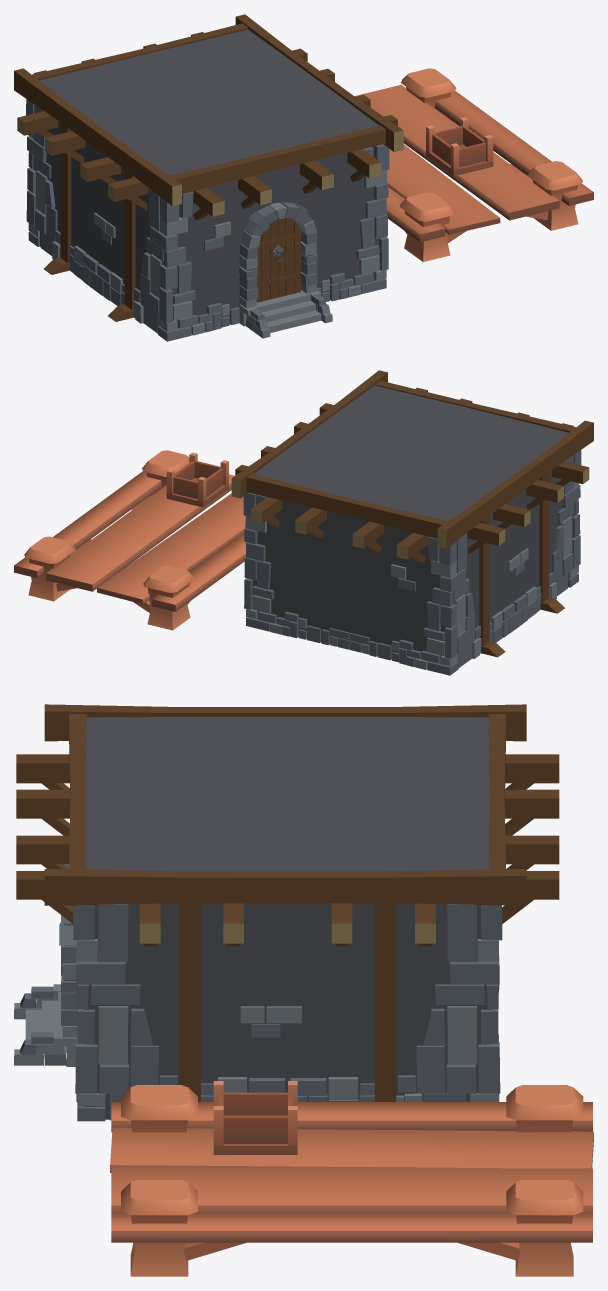
Rendered from london_harbor_1.glb.
The picture shows the model from 3 angles, top to bottom: view 1: azimuth 30°, elevation 25°; view 2: azimuth 150°, elevation 25°; view 3: azimuth 270°, elevation 25°; orthographic projection. The views are drawn at different scales.
Parts seen in each view (by area): view 1: House_4, structure-platform-dock-small, crate; view 2: House_4, structure-platform-dock-small, crate; view 3: House_4, structure-platform-dock-small, crate.
Boxes of the visible parts, bbox=[...] form: House_4: bbox=[14, 14, 403, 341]; structure-platform-dock-small: bbox=[354, 68, 593, 261]; crate: bbox=[426, 117, 493, 176]; House_4: bbox=[231, 370, 593, 675]; structure-platform-dock-small: bbox=[14, 450, 246, 630]; crate: bbox=[166, 452, 228, 507]; House_4: bbox=[14, 704, 559, 1121]; structure-platform-dock-small: bbox=[110, 1085, 593, 1276]; crate: bbox=[213, 1081, 297, 1154].
Size of the model in its own units: 12.85 by 4.29 by 9.03.
7 materials, 2 textured.
